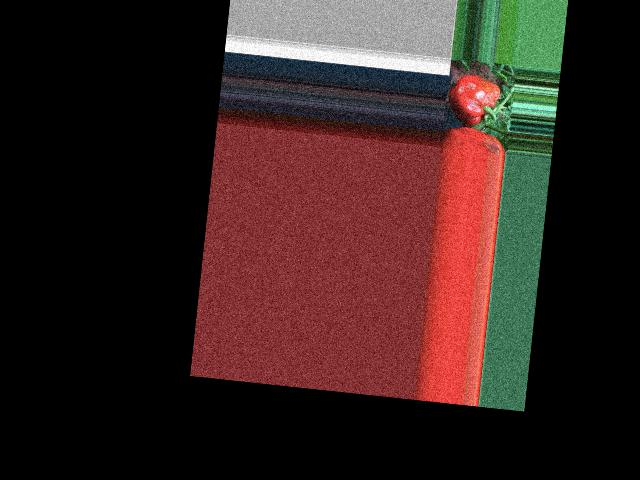bell_pepper: (443, 74, 505, 128)
